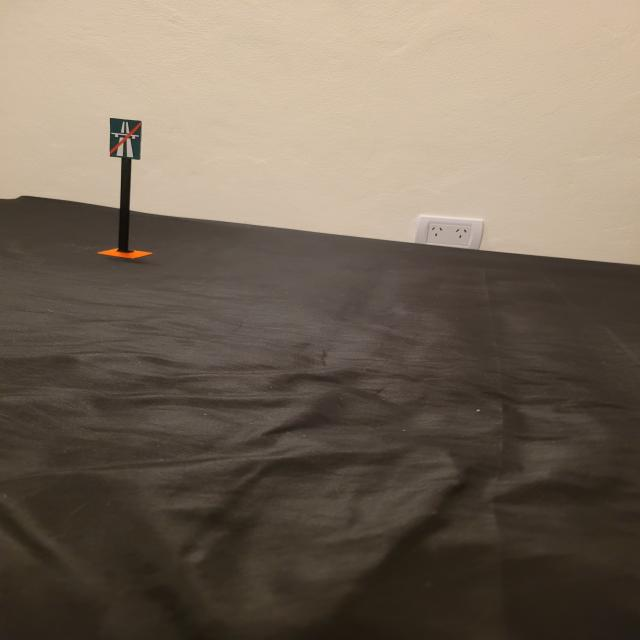highway_exit: (108, 117, 142, 160)
